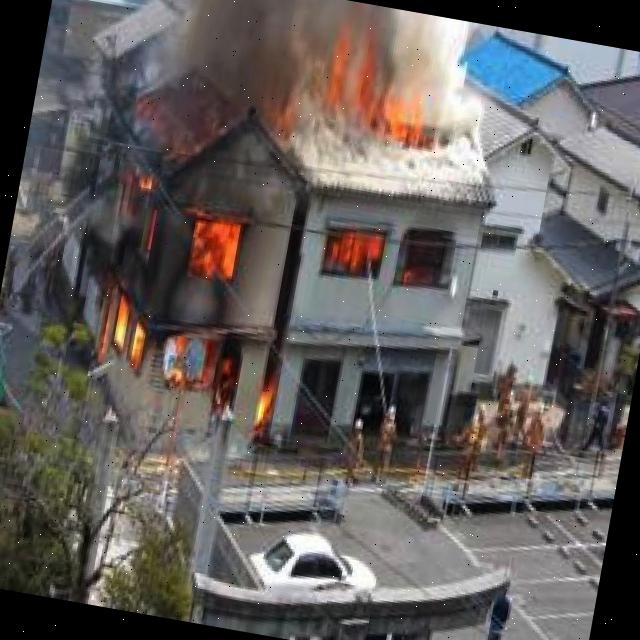fire: (74, 156, 314, 435), (323, 43, 458, 150), (322, 217, 424, 285)
